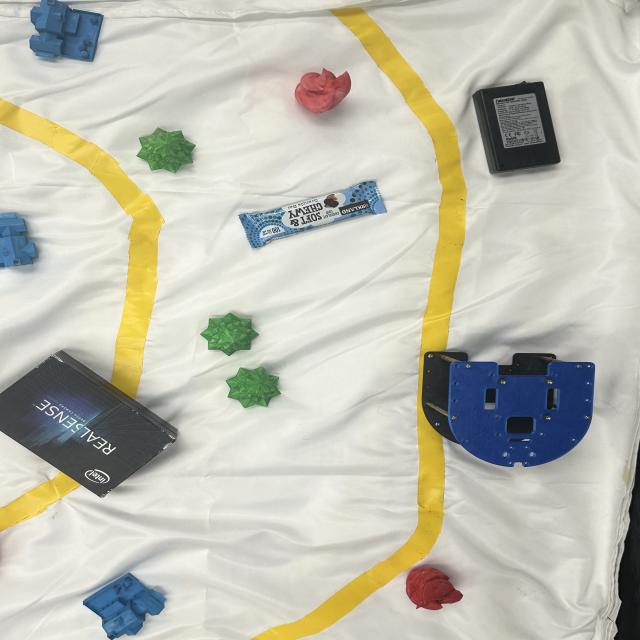fire: (294, 66, 355, 116), (406, 563, 464, 608)
house: (84, 570, 167, 640), (30, 0, 110, 63), (0, 212, 40, 270)
tree: (136, 126, 197, 174), (224, 365, 286, 410), (201, 313, 256, 354)
